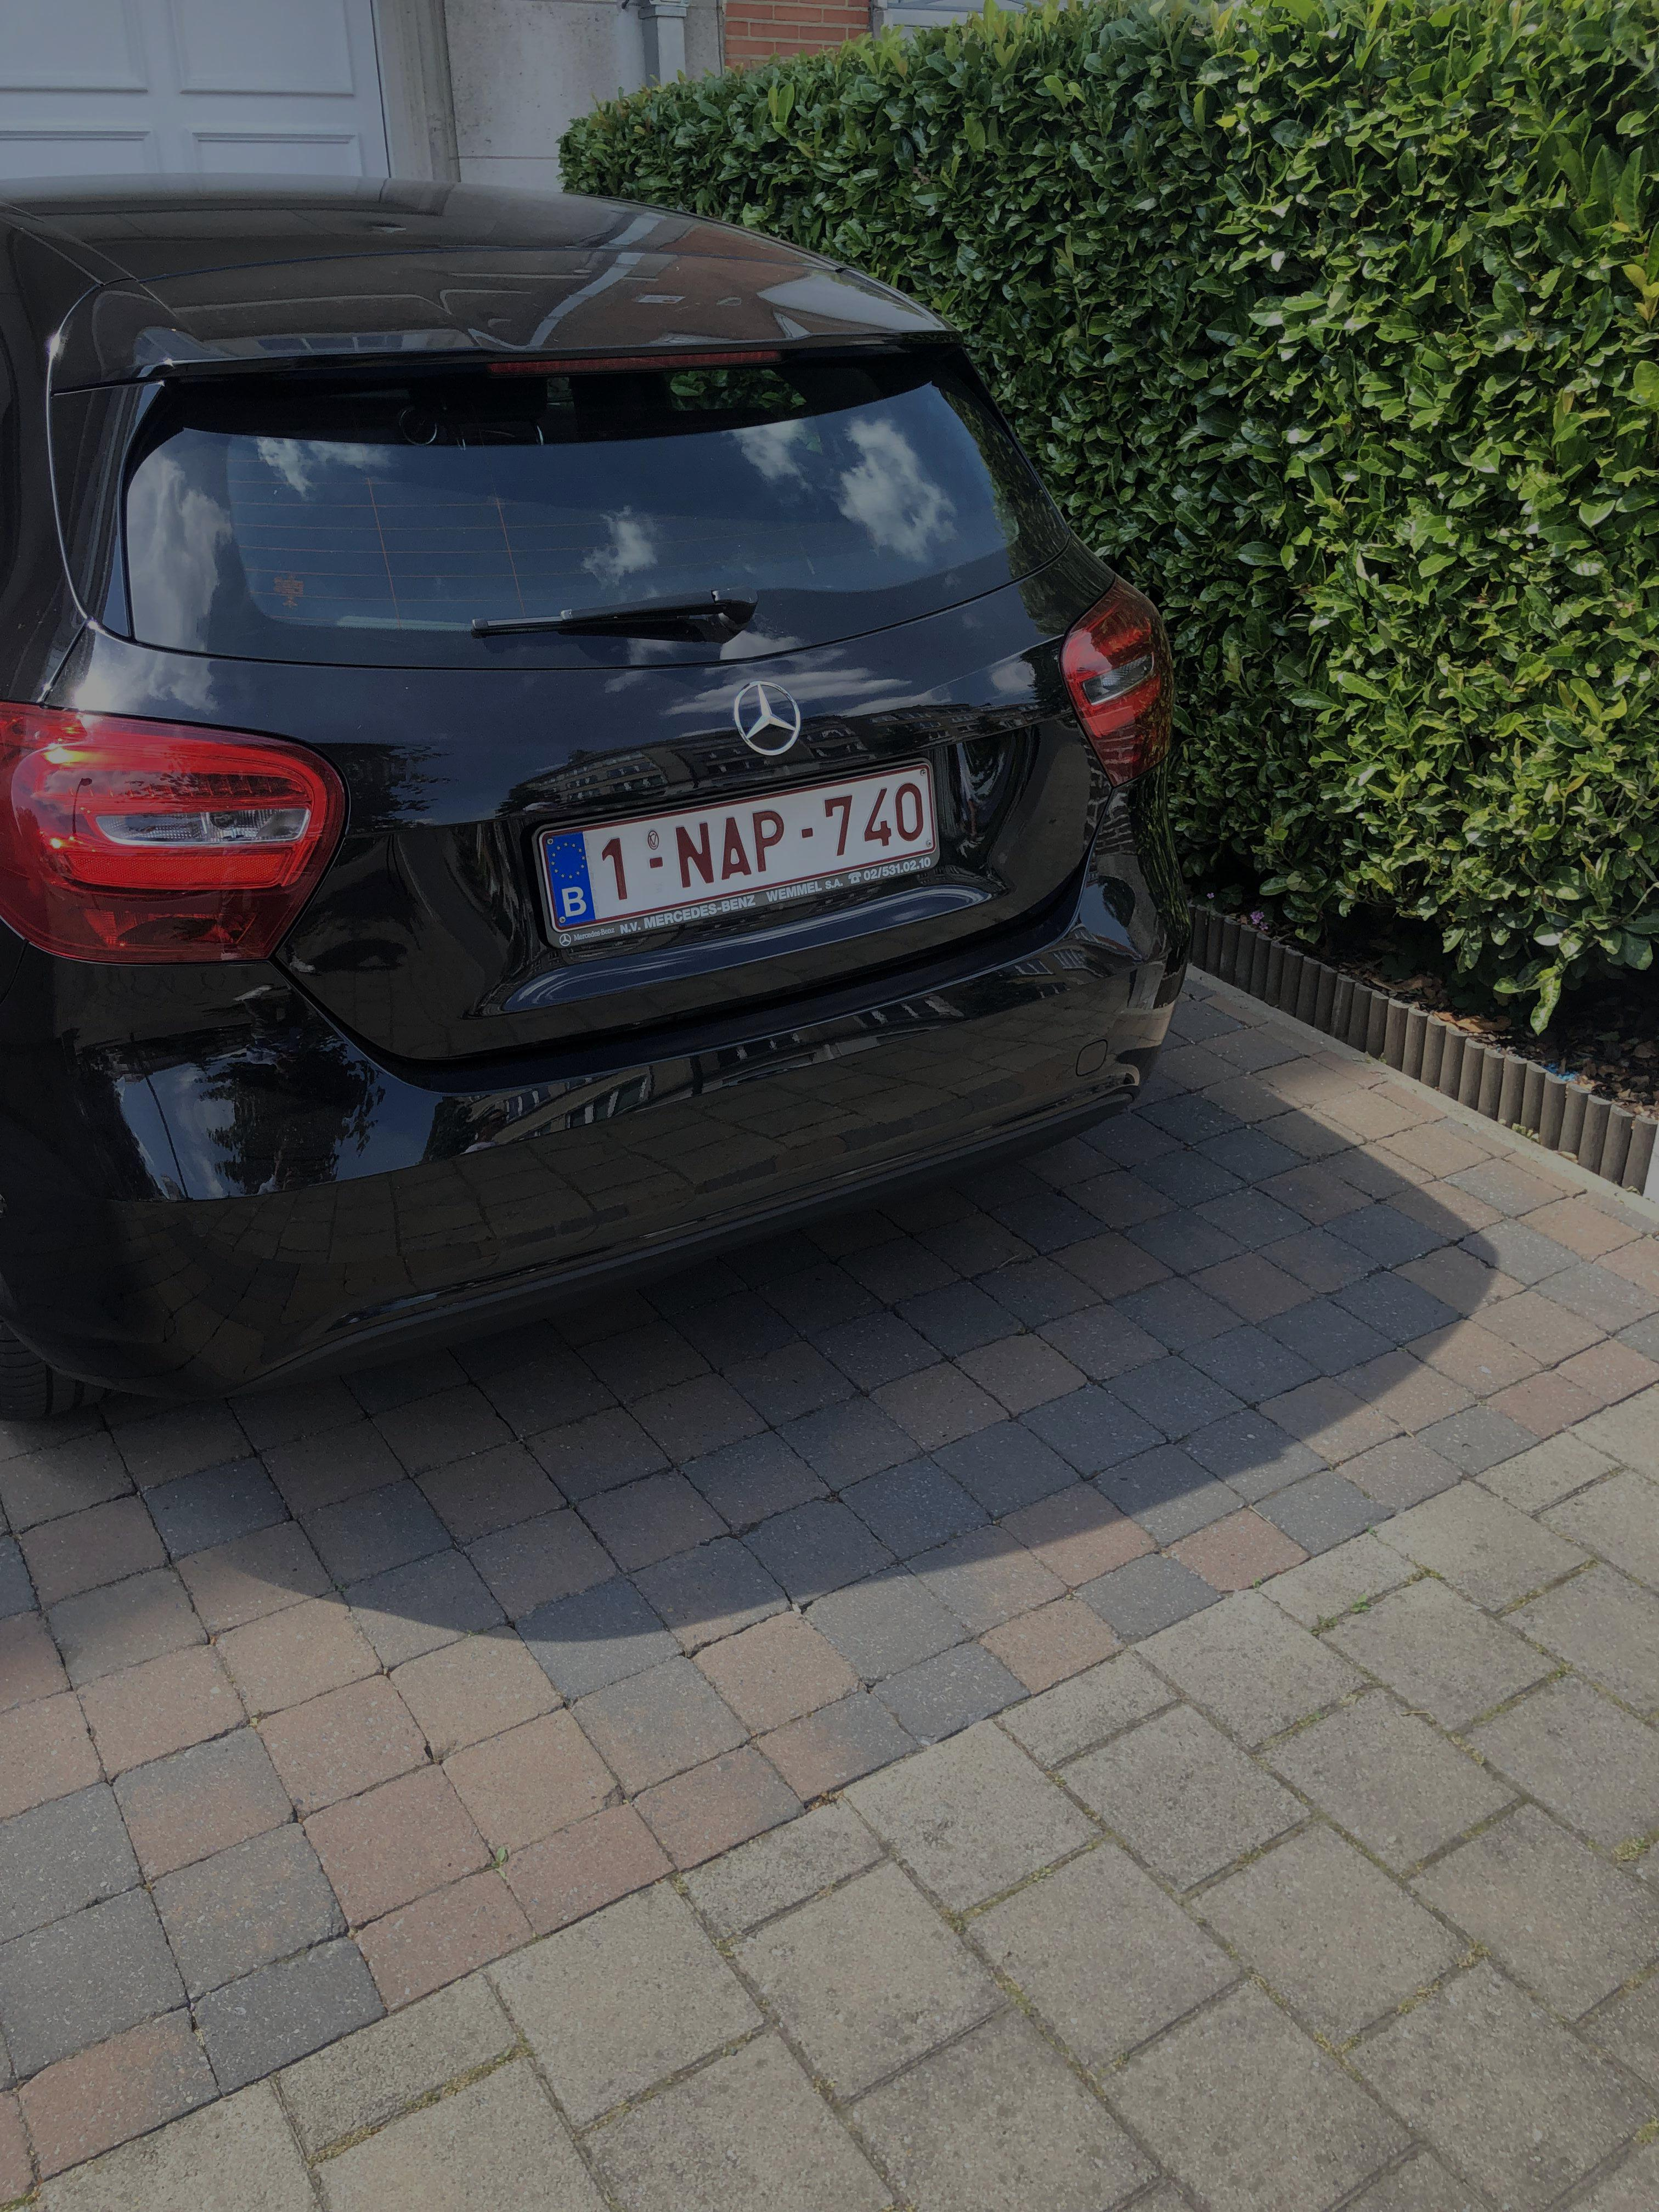plate: (532, 735, 958, 935)
